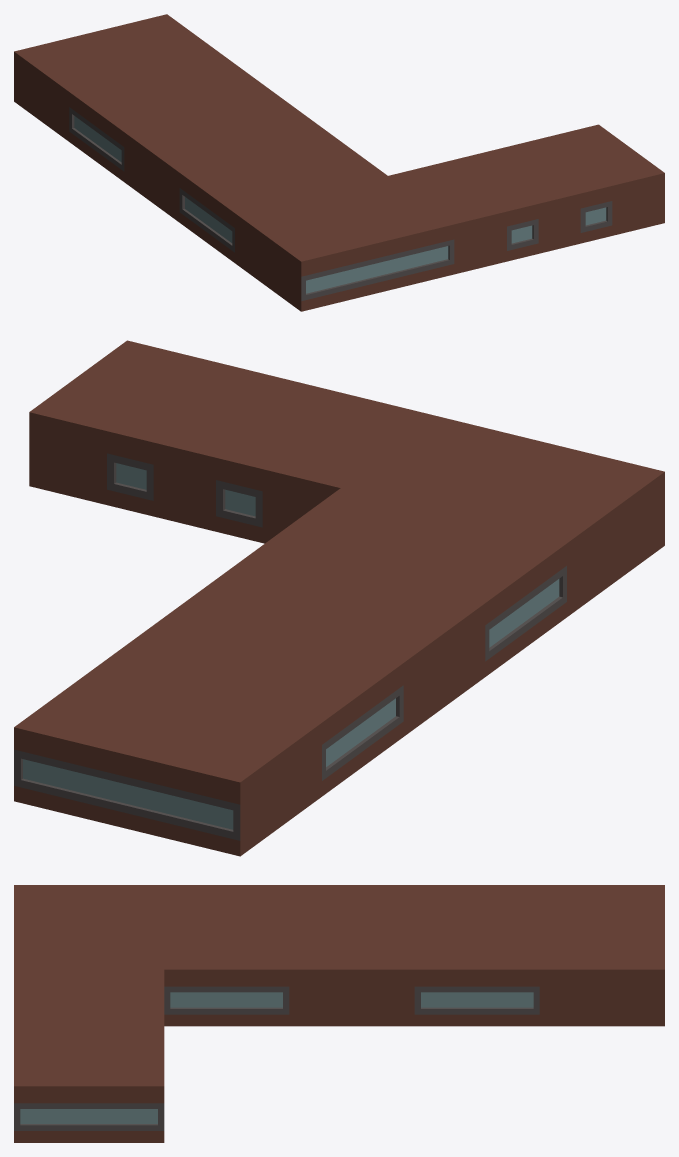
The model's file is L_Mid.fbx.
3 views of the same model, one above another, from view 1: azimuth 30°, elevation 25°; view 2: azimuth 150°, elevation 25°; view 3: azimuth 270°, elevation 25° (orthographic). The views are drawn at different scales.
Parts seen in each view (by area): view 1: L_Mid; view 2: L_Mid; view 3: L_Mid.
Part boxes in pixels (box(x1,y1,x2,y2)): L_Mid: box(14, 14, 664, 311); L_Mid: box(14, 340, 664, 856); L_Mid: box(14, 885, 664, 1142).
Bounding box in the file's own units: 3802 × 500 × 5200.
